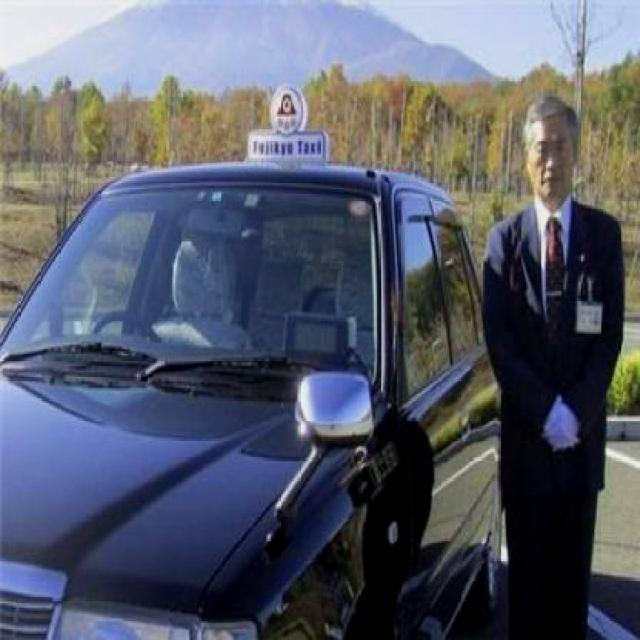face_nomask: (510, 137, 588, 198)
hand_glove: (543, 397, 577, 451)
head_nohelmet: (516, 101, 584, 137)
person: (480, 101, 625, 637)
